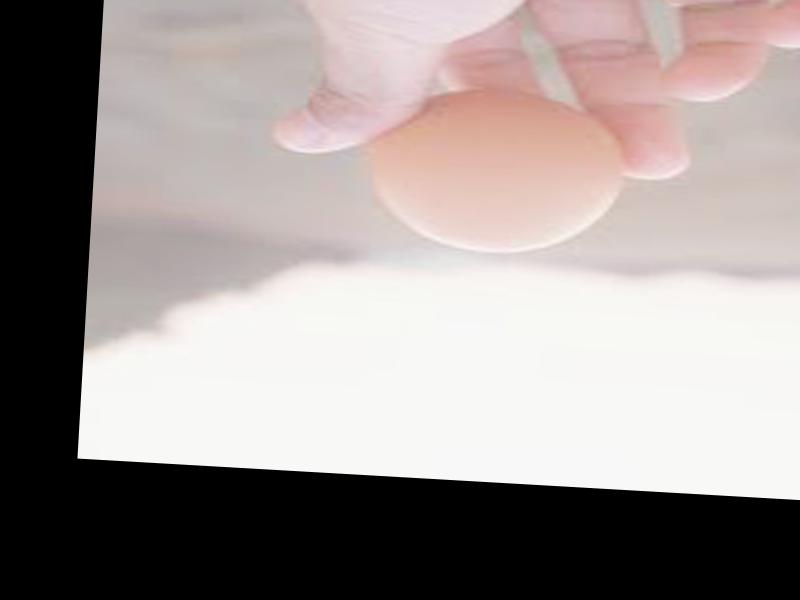Eggs: (366, 86, 628, 259)
